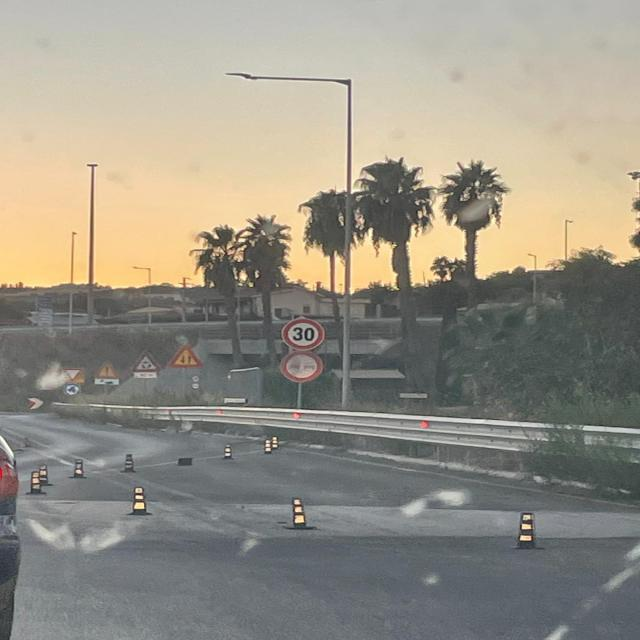forb_overtake: (281, 351, 325, 384)
forb_speed_over_30: (281, 317, 325, 350)
